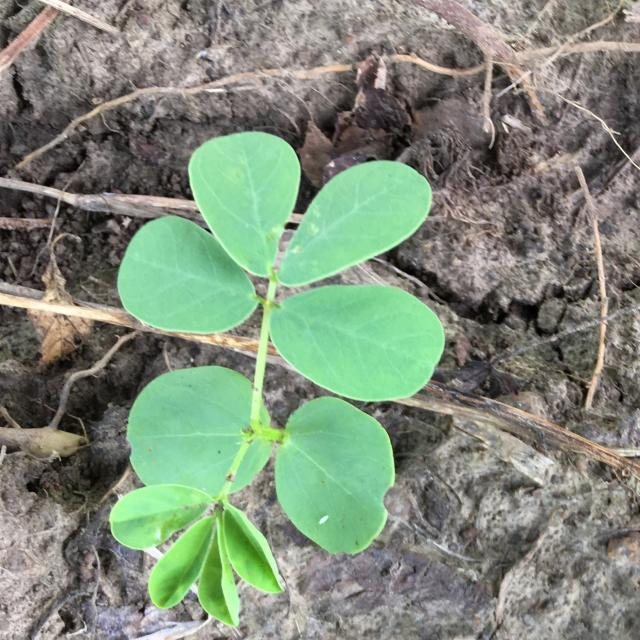Sicklepod: (110, 131, 445, 627)
